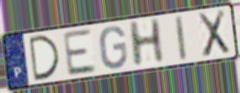D: (27, 33, 62, 83)
E: (61, 27, 99, 78)
G: (98, 25, 129, 71)
H: (126, 17, 167, 70)
I: (174, 14, 189, 62)
X: (196, 8, 232, 60)
